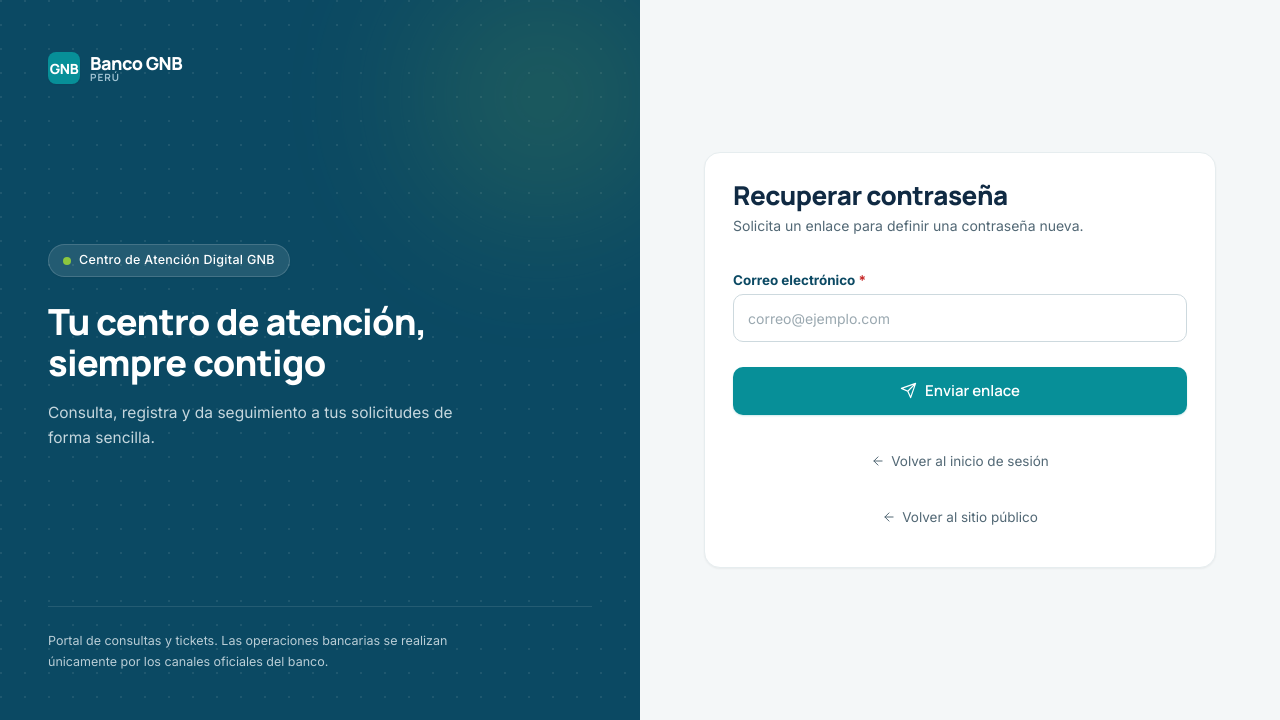
autenticación avanzada › solicita recuperación y muestra un mensaje genérico de éxito
Type "cliente@example.com" into the field labelled "Correo electrónico *". click: [960, 318]
box: top-left (733, 294), bottom-right (1187, 342)
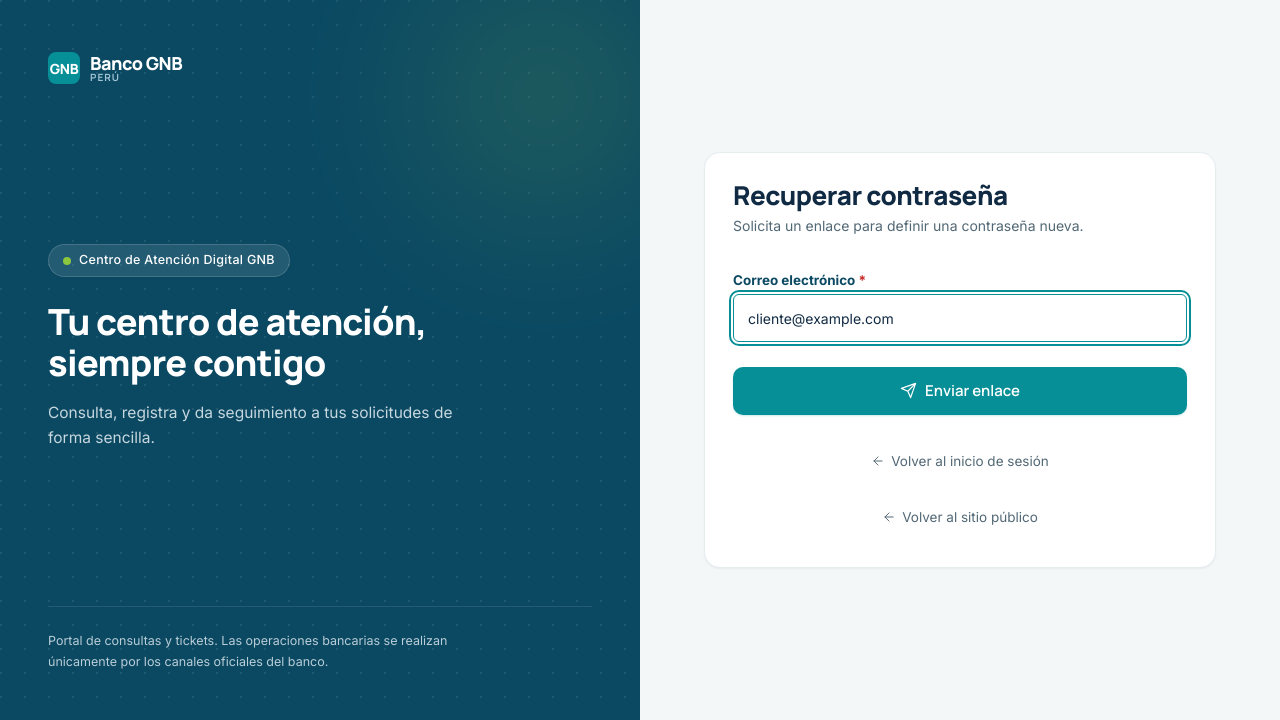
Click the button "Enviar enlace". click: [960, 391]
box: top-left (733, 367), bottom-right (1187, 415)
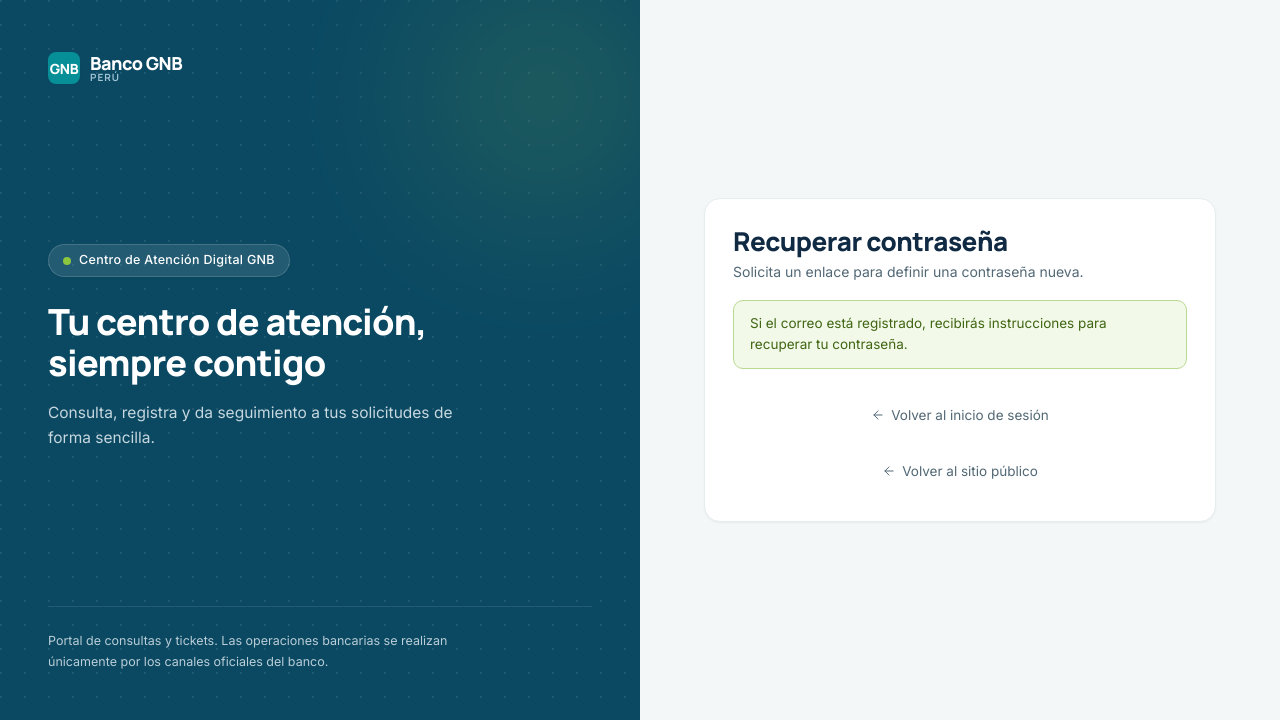
Check: the message shows "Si el correo está registrado", box top-left (750, 314), bottom-right (1107, 352)
